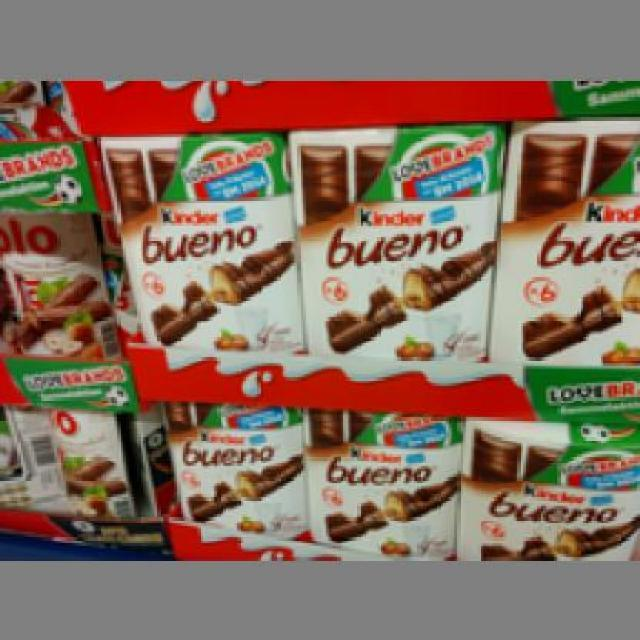Chocolate: (97, 126, 306, 354), (286, 126, 494, 354), (488, 123, 638, 366), (454, 417, 637, 560), (299, 408, 452, 552), (154, 394, 306, 537)
